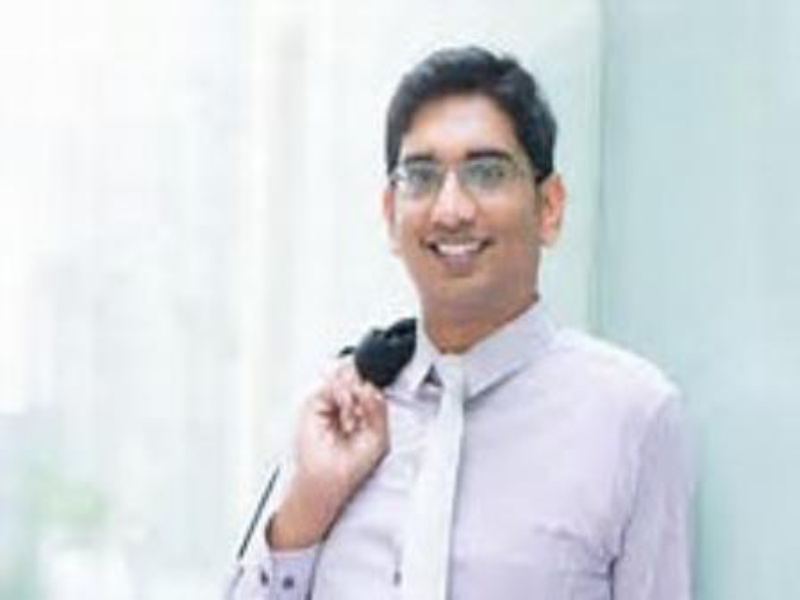TsisyArotava: (352, 49, 579, 342)
